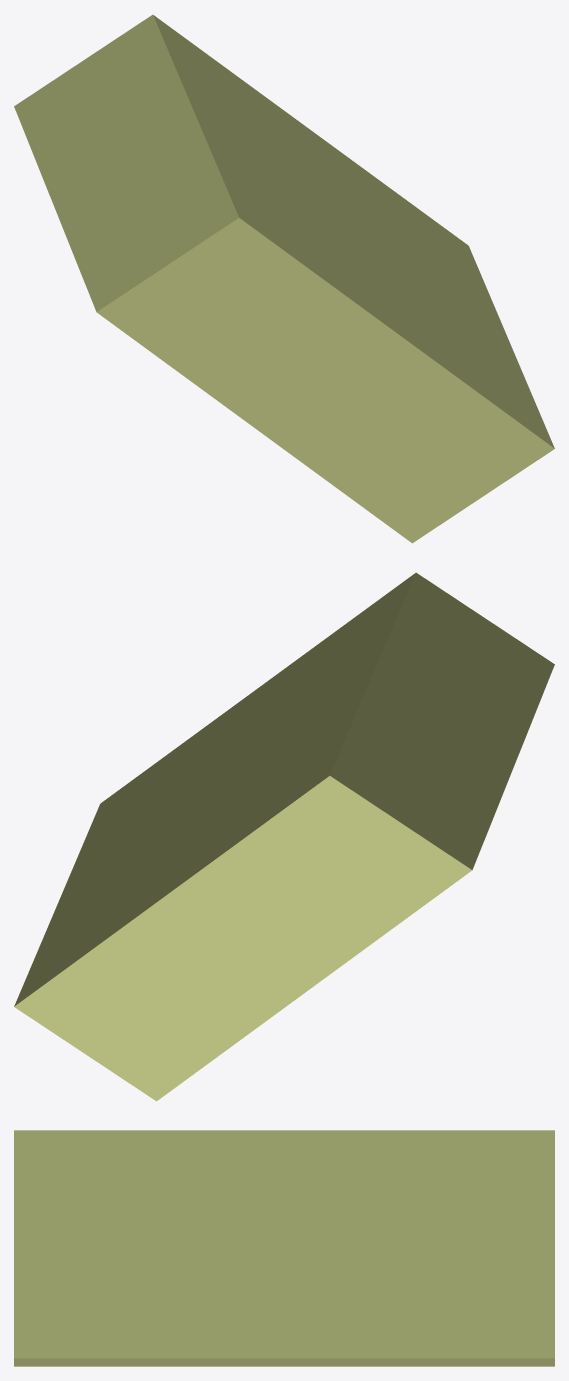
The picture shows the model from 3 angles, top to bottom: view 1: azimuth 30°, elevation 25°; view 2: azimuth 150°, elevation 25°; view 3: azimuth 270°, elevation 25°; orthographic projection. The views are drawn at different scales.
Visible parts, largest first — view 1: 0_2_2_0_3_3_3_3_2_0_1_1; view 2: 0_2_2_0_3_3_3_3_2_0_1_1; view 3: 0_2_2_0_3_3_3_3_2_0_1_1.
Boxes of the visible parts, x1=… form: 0_2_2_0_3_3_3_3_2_0_1_1: x1=14, y1=14, x2=554, y2=543; 0_2_2_0_3_3_3_3_2_0_1_1: x1=14, y1=572, x2=554, y2=1101; 0_2_2_0_3_3_3_3_2_0_1_1: x1=14, y1=1130, x2=554, y2=1366.
Size of the model in its own units: 3.7 by 4.47 by 9.
